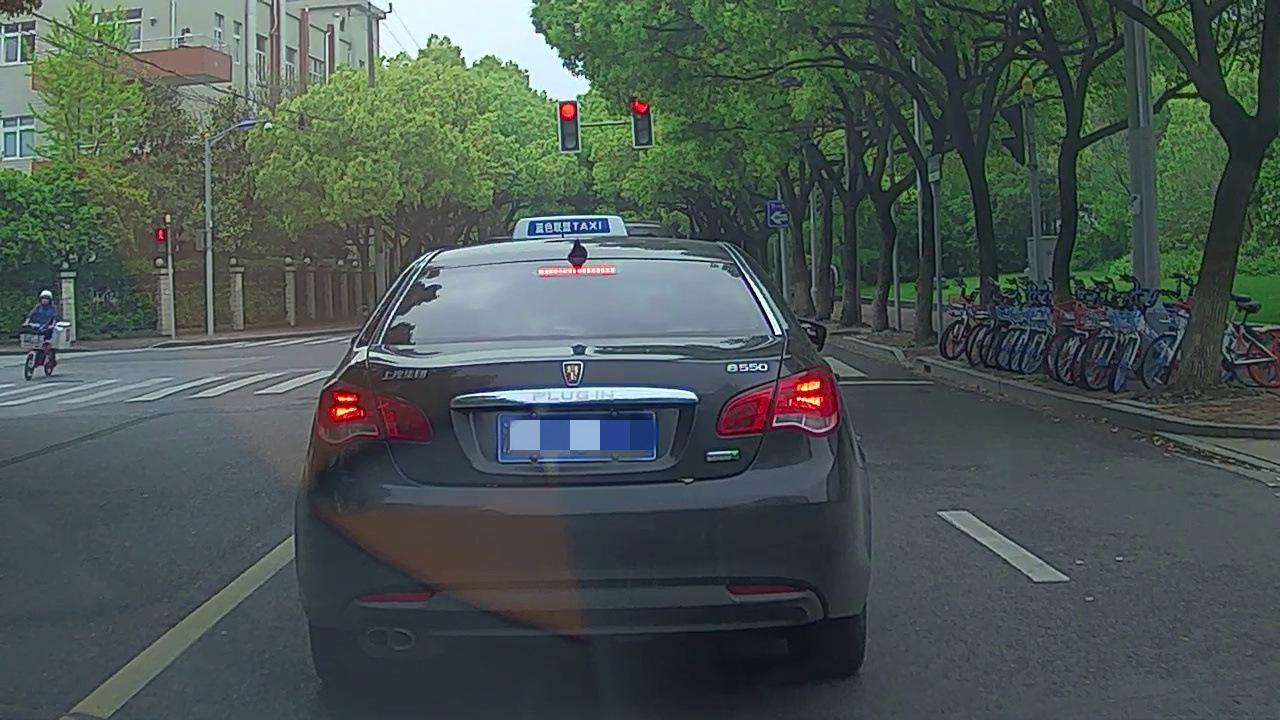traffic_light: (631, 100, 653, 148), (559, 102, 580, 152)
